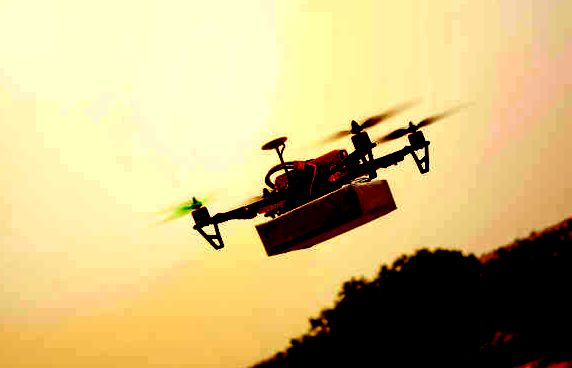Drone: (154, 93, 461, 251)
